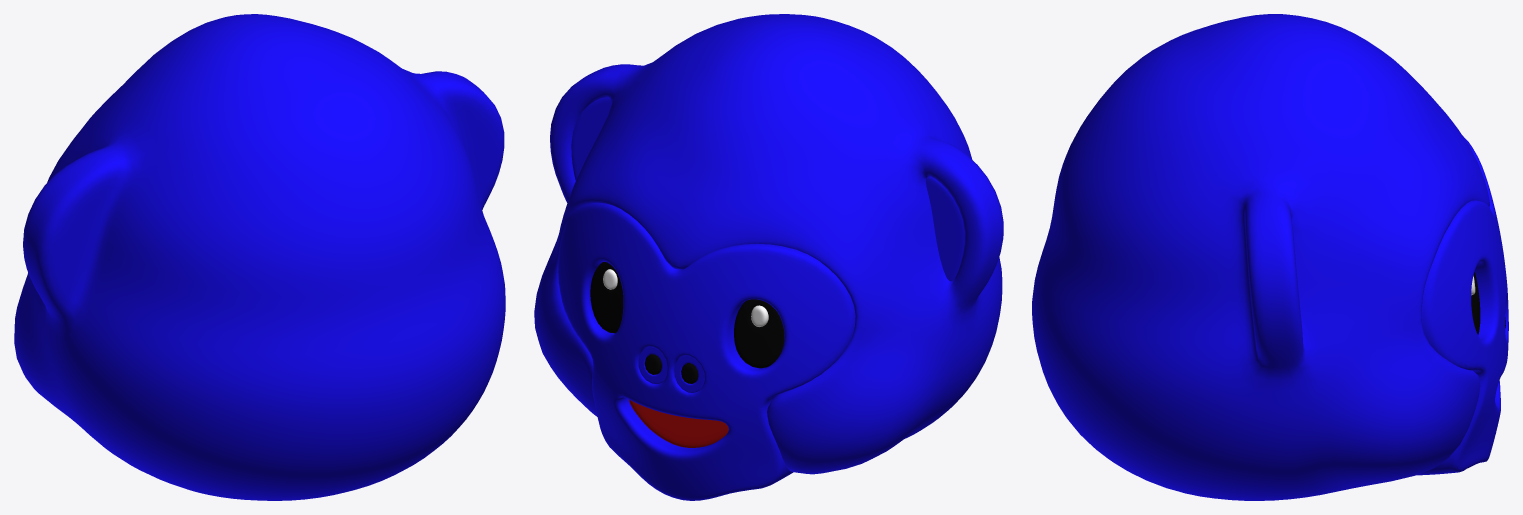
Rendered from ape FBX.FBX.
The picture shows the model from 3 angles, left to right: view 1: azimuth 30°, elevation 25°; view 2: azimuth 150°, elevation 25°; view 3: azimuth 270°, elevation 25°; orthographic projection. The views are drawn at different scales.
Parts seen in each view (by area): view 1: Group006; view 2: Group006, Group46083, ZBrush_defualt_group002, ZBrush_defualt_group004, Group33027, Group003, Group005, ZBrush_defualt_group, Group1; view 3: Group006, Group46083.
Part boxes in pixels (<box>): Group006: <box>14,14,505,500</box>; Group006: <box>534,14,1003,474</box>; Group46083: <box>558,202,855,500</box>; ZBrush_defualt_group002: <box>734,299,784,368</box>; ZBrush_defualt_group004: <box>925,176,964,281</box>; Group33027: <box>629,399,728,447</box>; Group003: <box>590,262,623,333</box>; Group005: <box>571,97,611,180</box>; ZBrush_defualt_group: <box>674,355,704,392</box>; Group1: <box>638,347,667,383</box>; Group006: <box>1032,14,1489,500</box>; Group46083: <box>1417,135,1508,475</box>.
Bounding box in the file's own units: 20.53 × 18.49 × 18.03.
